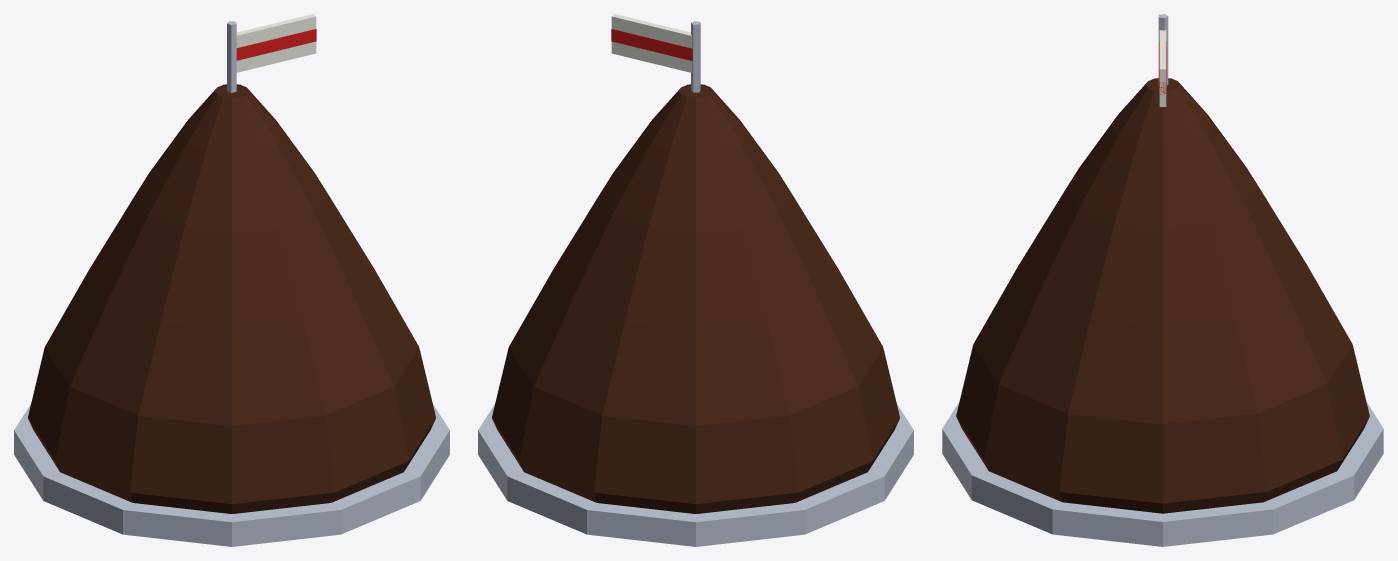
File: kiss.obj
The picture shows the model from 3 angles, left to right: view 1: azimuth 30°, elevation 25°; view 2: azimuth 150°, elevation 25°; view 3: azimuth 270°, elevation 25°; orthographic projection.
Parts seen in each view (by area): view 1: kiss; view 2: kiss; view 3: kiss.
Boxes of the visible parts, x1,y1,x2,y2 form: kiss: (14,14,449,546); kiss: (478,14,913,546); kiss: (942,14,1383,546).
Bounding box in the file's own units: 1.28 × 1.4 × 1.28.
